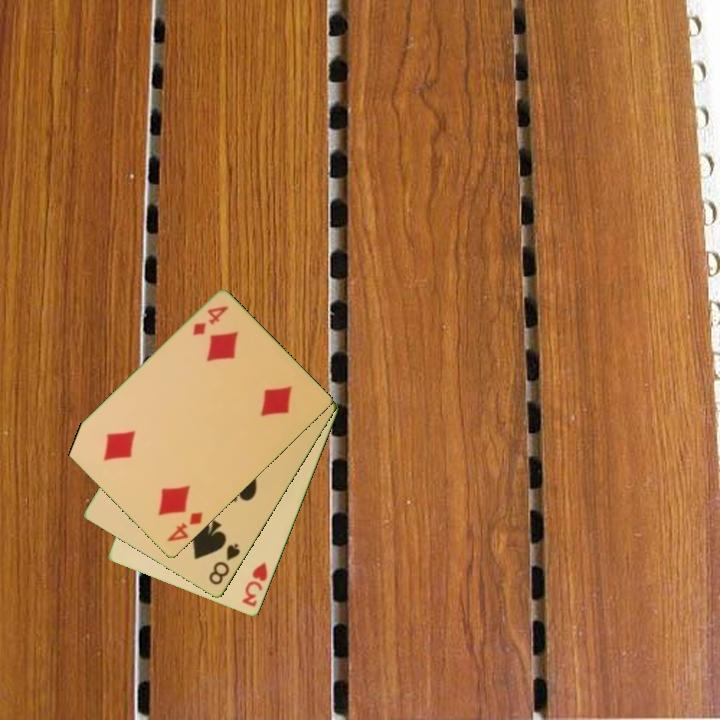3h: (238, 558, 271, 610)
4d: (163, 509, 206, 545), (189, 303, 232, 339)
8s: (205, 540, 243, 588)
